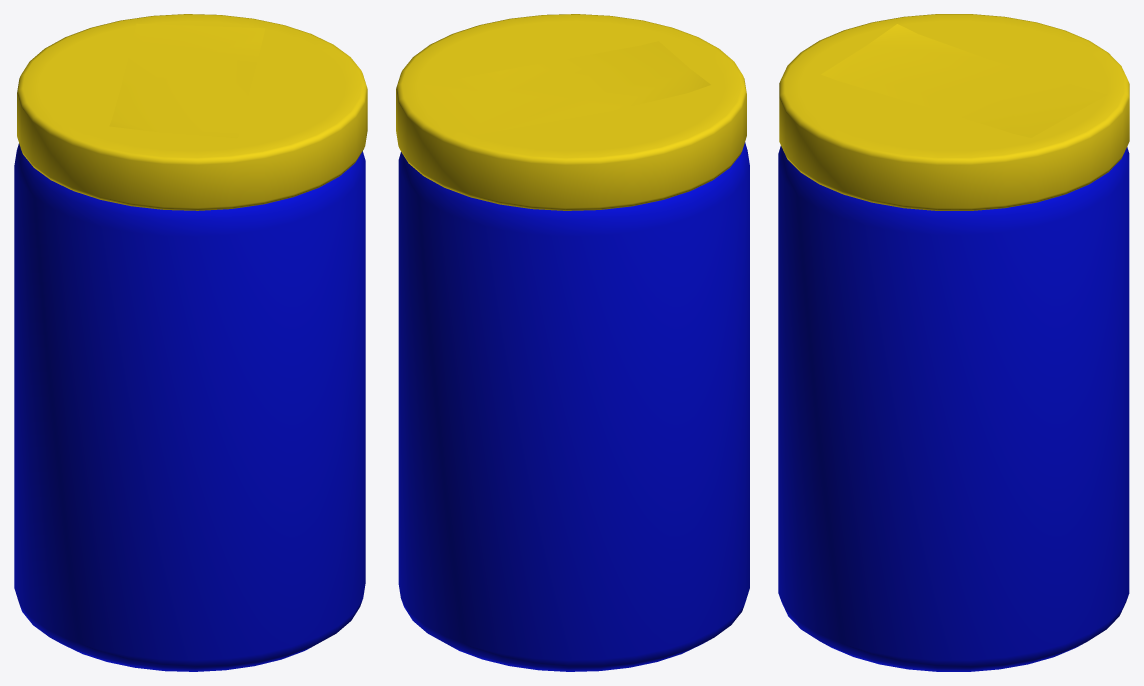
File: KiszkaInJar_LP.fbx
The picture shows the model from 3 angles, left to right: view 1: azimuth 30°, elevation 25°; view 2: azimuth 150°, elevation 25°; view 3: azimuth 270°, elevation 25°; orthographic projection.
Parts seen in each view (by area): view 1: Sloik_LP, Dekielek_LP; view 2: Sloik_LP, Dekielek_LP; view 3: Sloik_LP, Dekielek_LP.
Part boxes in pixels (x1,y1,x2,y2): Sloik_LP: [14, 143, 365, 671]; Dekielek_LP: [17, 14, 367, 210]; Sloik_LP: [398, 142, 749, 671]; Dekielek_LP: [396, 14, 746, 210]; Sloik_LP: [778, 146, 1129, 671]; Dekielek_LP: [779, 14, 1129, 210].
Size of the model in its own units: 0.2005 by 0.3306 by 0.1992.
